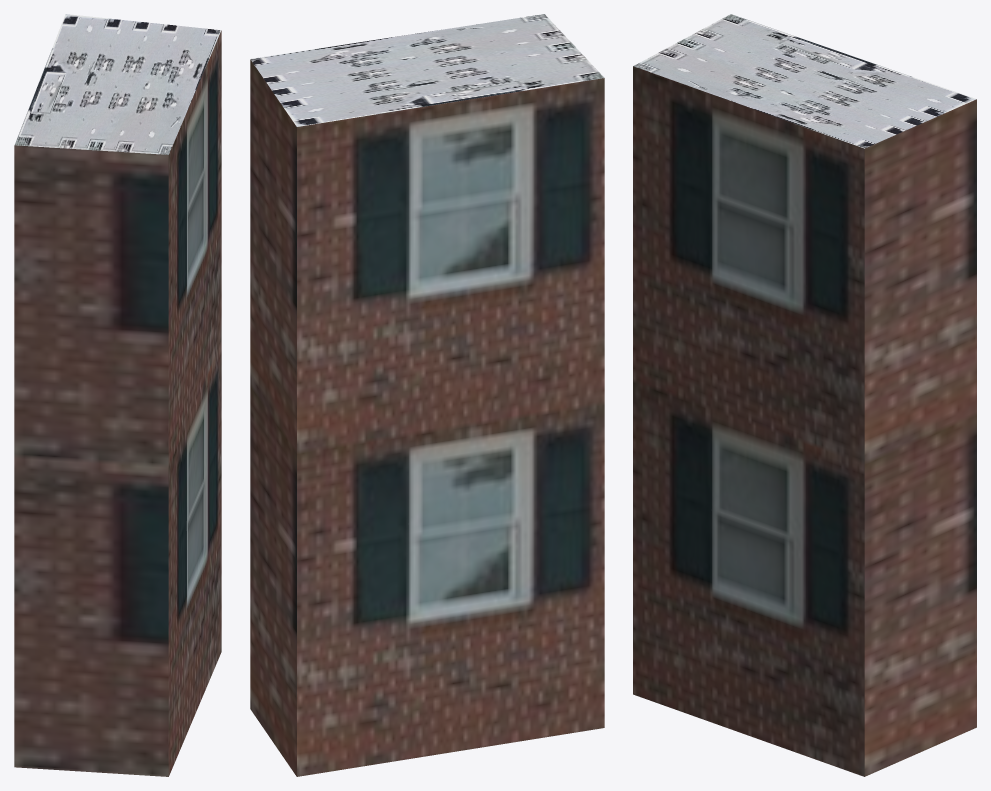
The model's file is ResTex__3390.fbx.
3 renders of one model, left to right at view 1: azimuth 30°, elevation 25°; view 2: azimuth 150°, elevation 25°; view 3: azimuth 270°, elevation 25°, orthographic. The views are drawn at different scales.
Visible parts, largest first — view 1: CityEngineMaterial_14_m, CityEngineMaterial_4_m; view 2: CityEngineMaterial_14_m, CityEngineMaterial_4_m; view 3: CityEngineMaterial_14_m, CityEngineMaterial_4_m.
Boxes of the visible parts, x1,y1,x2,y2 form: CityEngineMaterial_14_m: [14, 30, 221, 776]; CityEngineMaterial_4_m: [14, 14, 221, 154]; CityEngineMaterial_14_m: [250, 59, 604, 776]; CityEngineMaterial_4_m: [250, 14, 604, 126]; CityEngineMaterial_14_m: [633, 66, 976, 776]; CityEngineMaterial_4_m: [633, 14, 976, 148].
Bounding box in the file's own units: 2.76 × 6 × 2.98.
2 materials, 2 textured.
